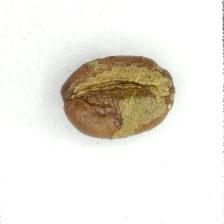NG: (76, 59, 168, 137)
